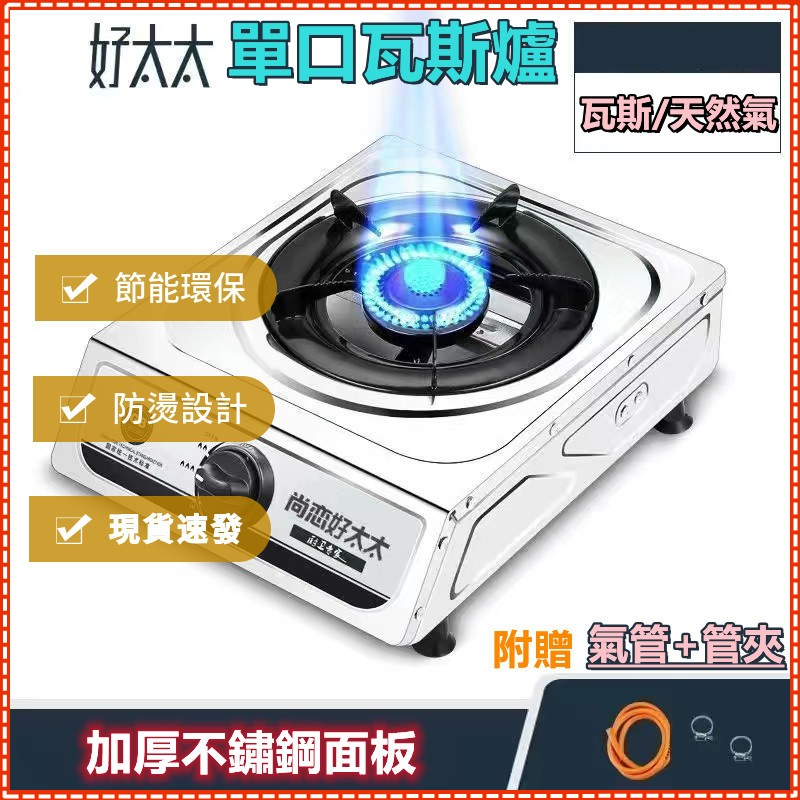gasoven: (48, 124, 735, 663)
